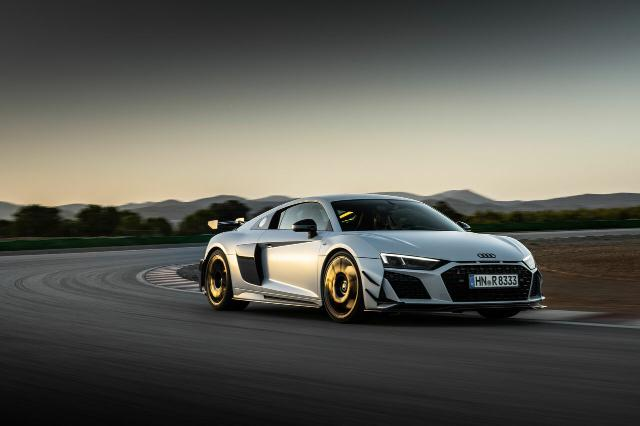audi: (198, 194, 548, 324)
